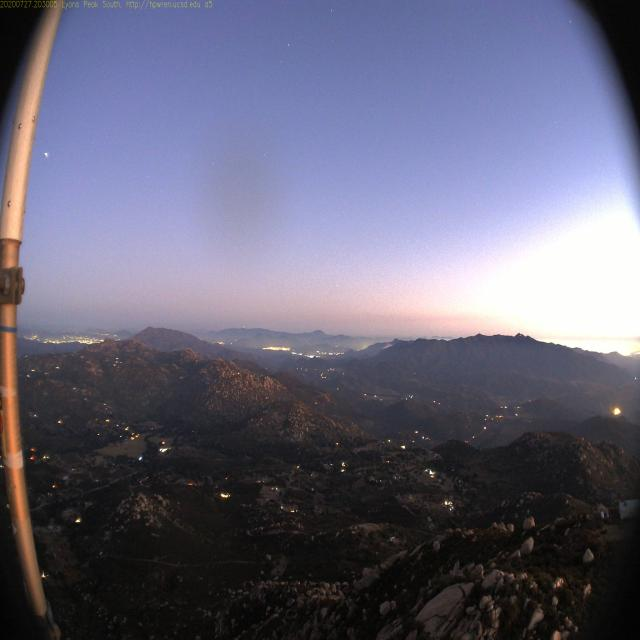smoke: (379, 339, 396, 352)
